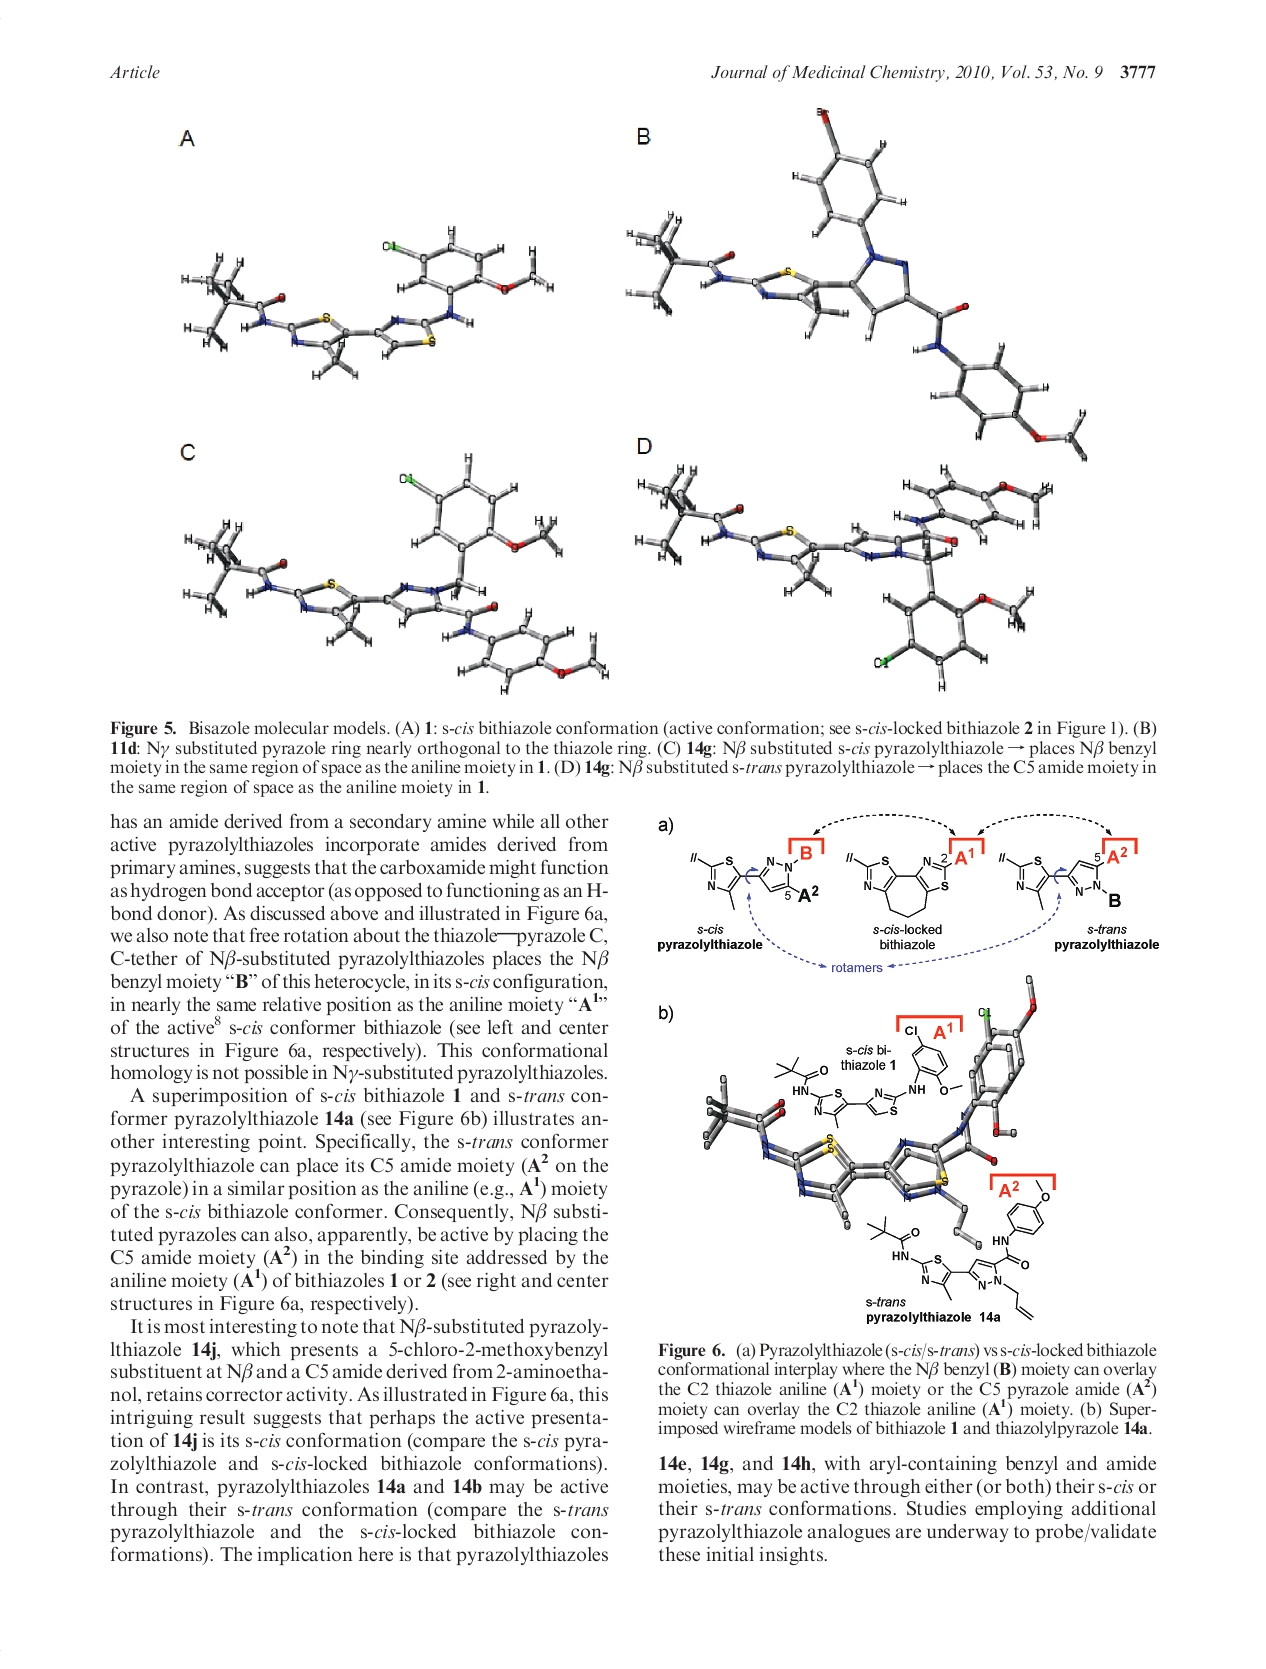exist_molecular: (864, 1176, 1055, 1321), (777, 1016, 965, 1130), (686, 840, 823, 919), (843, 847, 981, 912), (993, 847, 1128, 912)
